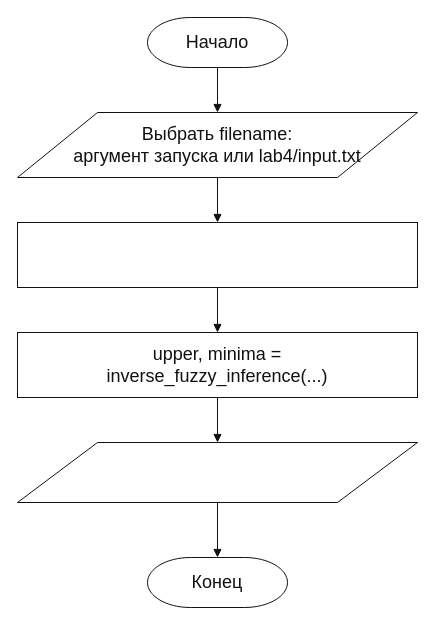
This 435x625 diagram has some shape labels left out. Here are the shapes that lost their labels. From the top down, the centre of each, then its label:
the point at 217,255: relation, conclusion = read_problem(filename)
the point at 217,472: print(format_result(...))
